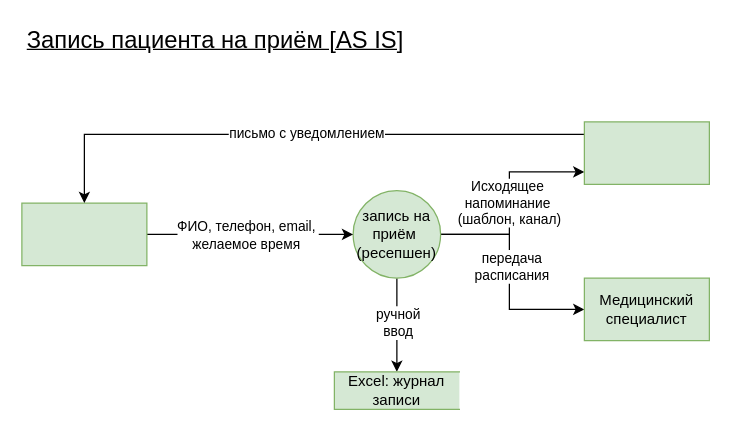
The diagram is 731 pixels wide and 431 high, and some of its shapes have lost their labels. The centre of each missing label's shape, as x and y in pixels:
Exchange mail: the point at 646,152
Пациент: the point at 84,234
